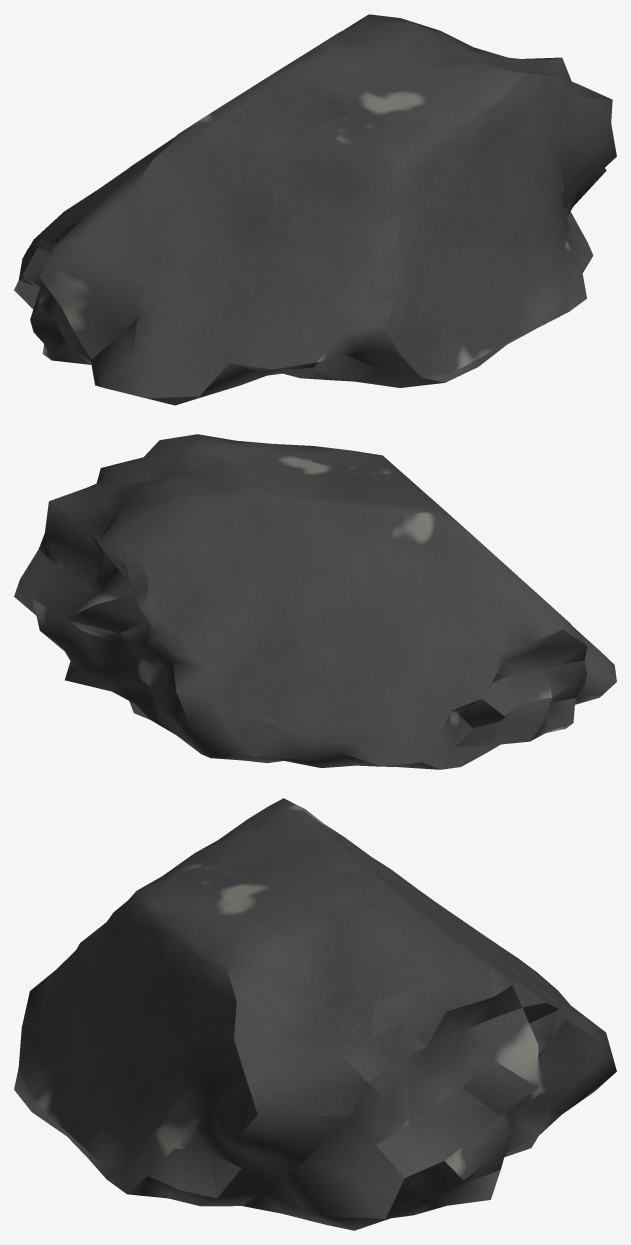
Rendered from SM_Rock_A.fbx.
3 renders of one model, top to bottom at view 1: azimuth 30°, elevation 25°; view 2: azimuth 150°, elevation 25°; view 3: azimuth 270°, elevation 25°, orthographic. The views are drawn at different scales.
Parts seen in each view (by area): view 1: SM_Rock_A; view 2: SM_Rock_A; view 3: SM_Rock_A.
Part boxes in pixels (<box>): SM_Rock_A: <box>14,14,616,405</box>; SM_Rock_A: <box>14,434,616,769</box>; SM_Rock_A: <box>14,798,616,1230</box>.
Size of what is drawn, in the model's own units: 67.89 by 85.73 by 29.1.
